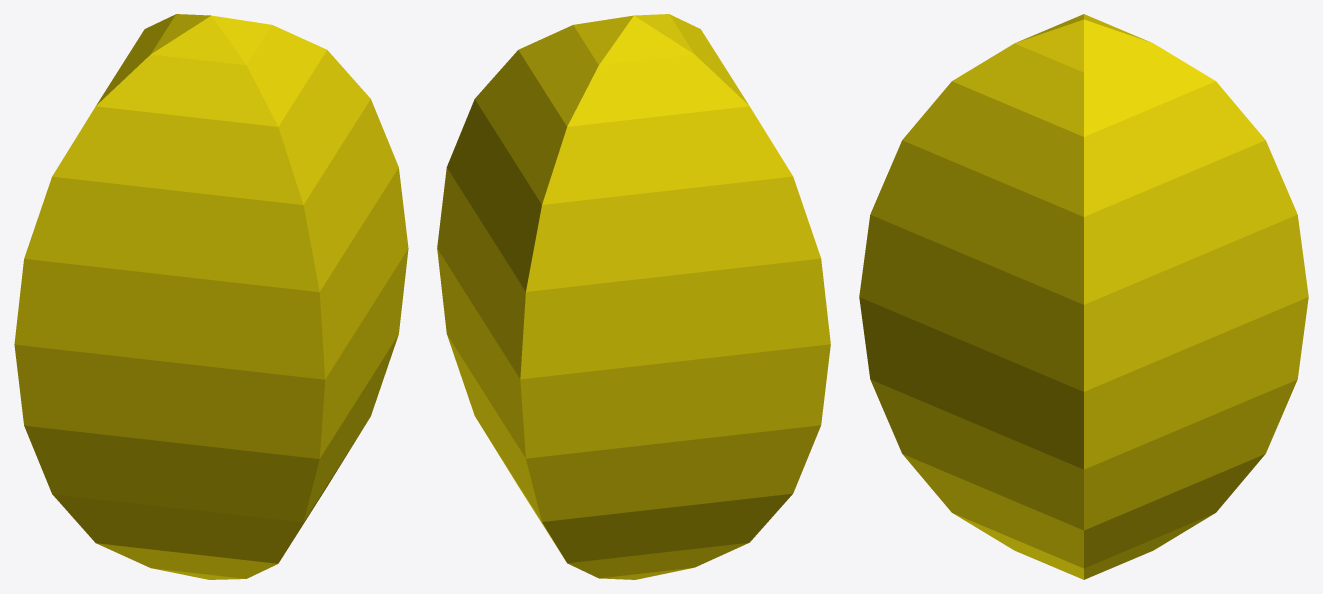
Rendered from GlowGem.fbx.
3 renders of one model, left to right at view 1: azimuth 30°, elevation 25°; view 2: azimuth 150°, elevation 25°; view 3: azimuth 270°, elevation 25°, orthographic.
Parts seen in each view (by area): view 1: Sphere; view 2: Sphere; view 3: Sphere.
Boxes of the visible parts, box(x1,y1,x2,y2) form: Sphere: box(14, 14, 408, 579); Sphere: box(437, 14, 830, 579); Sphere: box(859, 14, 1308, 579).
Bounding box in the file's own units: 52.65 × 72.04 × 52.65.
